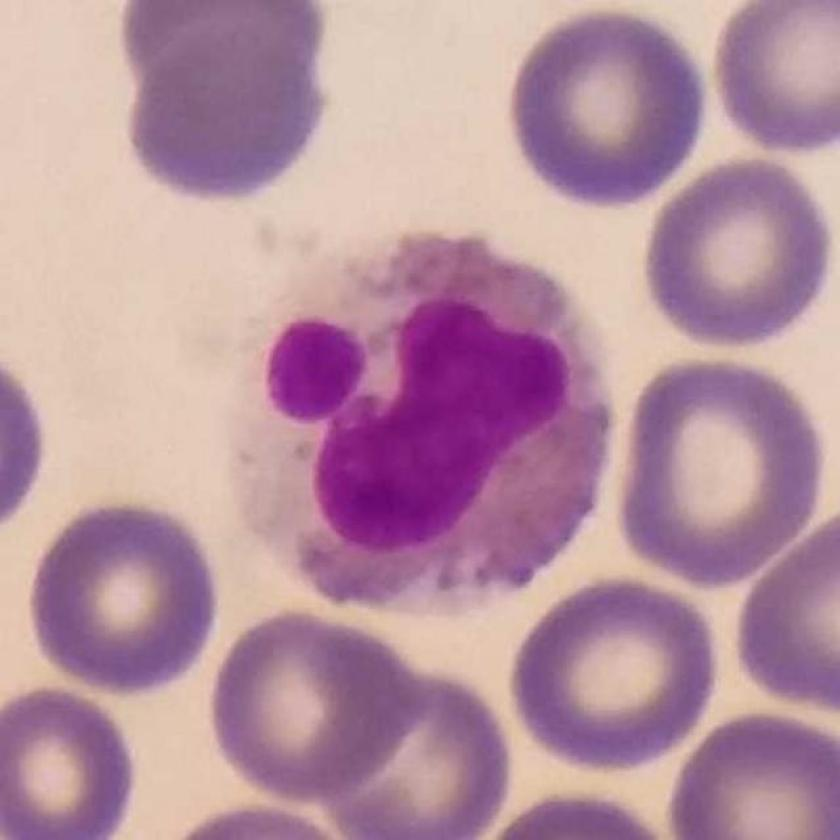eosinophil: (227, 228, 615, 621)
